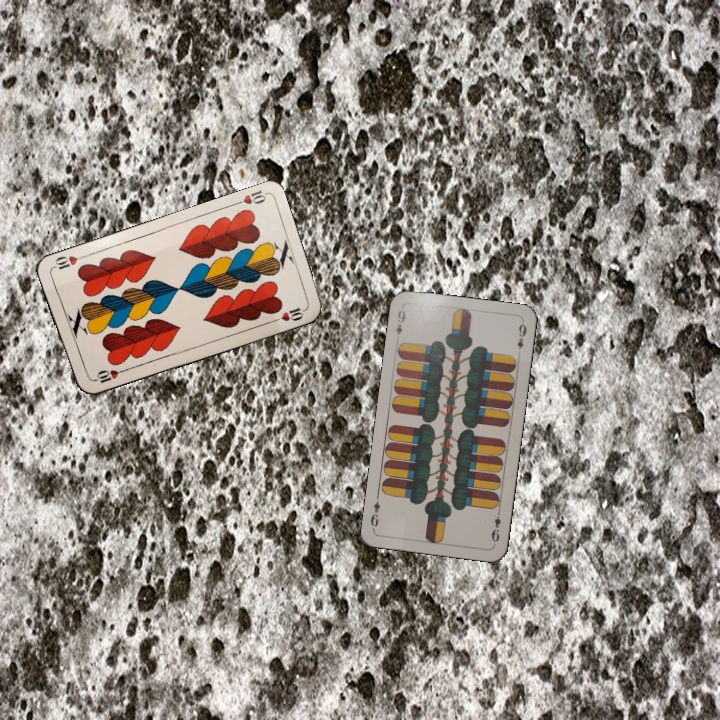E9: (487, 506, 503, 546), (392, 306, 408, 337)
H10: (229, 186, 268, 208), (89, 365, 128, 386)
